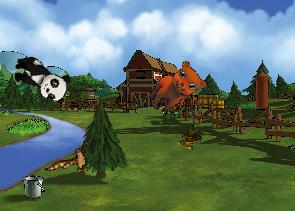bear: (143, 55, 211, 125)
eagle: (44, 132, 101, 191)
panda: (7, 51, 74, 106)
